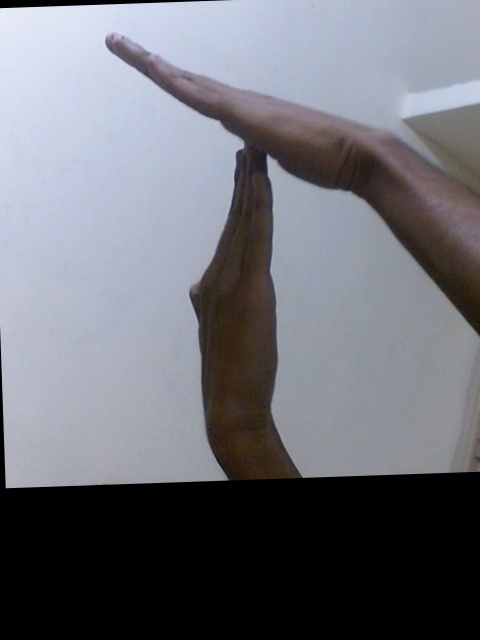hand: (98, 28, 362, 193), (185, 135, 286, 433)
